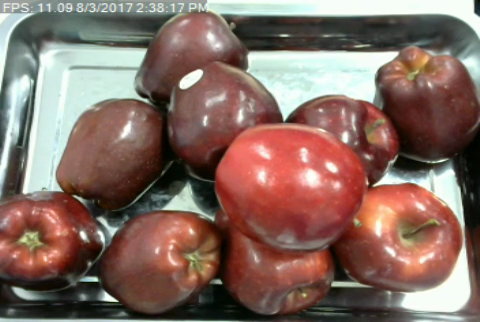Apple: (210, 117, 369, 253), (162, 60, 285, 183), (335, 180, 464, 292), (209, 205, 338, 317), (53, 94, 174, 213), (96, 206, 223, 317), (371, 42, 480, 166), (133, 5, 252, 109), (282, 92, 401, 188), (0, 189, 107, 294)
